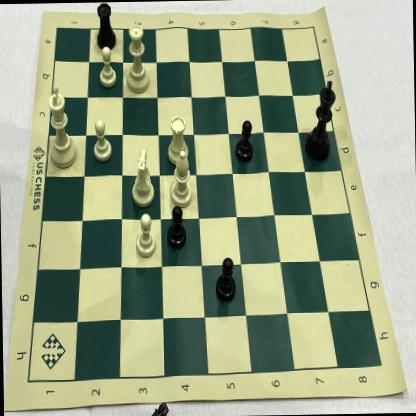black-king: (302, 78, 340, 165)
black-pawn: (212, 254, 240, 304), (164, 203, 190, 250), (233, 116, 256, 167)
black-rook: (92, 2, 119, 54)
white-bishop: (168, 146, 194, 213)
white-king: (44, 80, 80, 173)
white-knight: (128, 146, 157, 209)
white-pawn: (132, 210, 157, 262), (90, 116, 114, 166), (94, 44, 120, 90)
white-queen: (124, 19, 154, 96)
white-rook: (162, 110, 192, 168)
